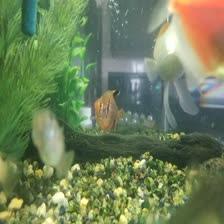Guppy: (28, 103, 74, 177)
Transparente: (90, 84, 123, 135)
